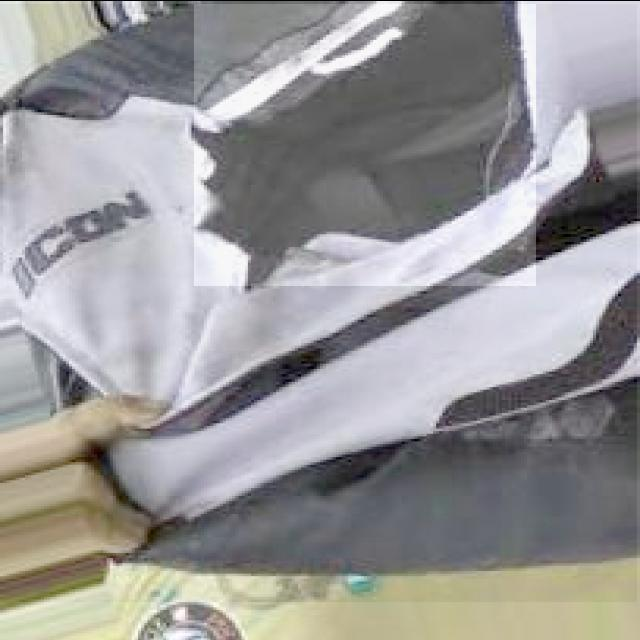Damage-bag: (194, 4, 532, 286)
